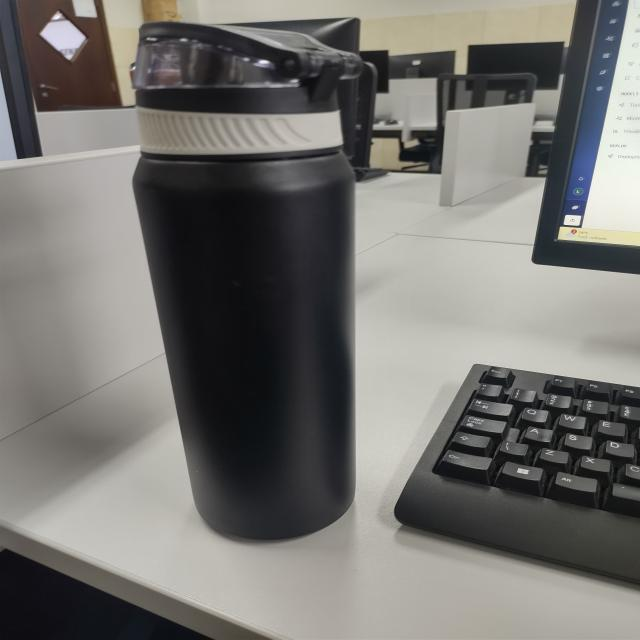Garrafa: (121, 21, 367, 542)
